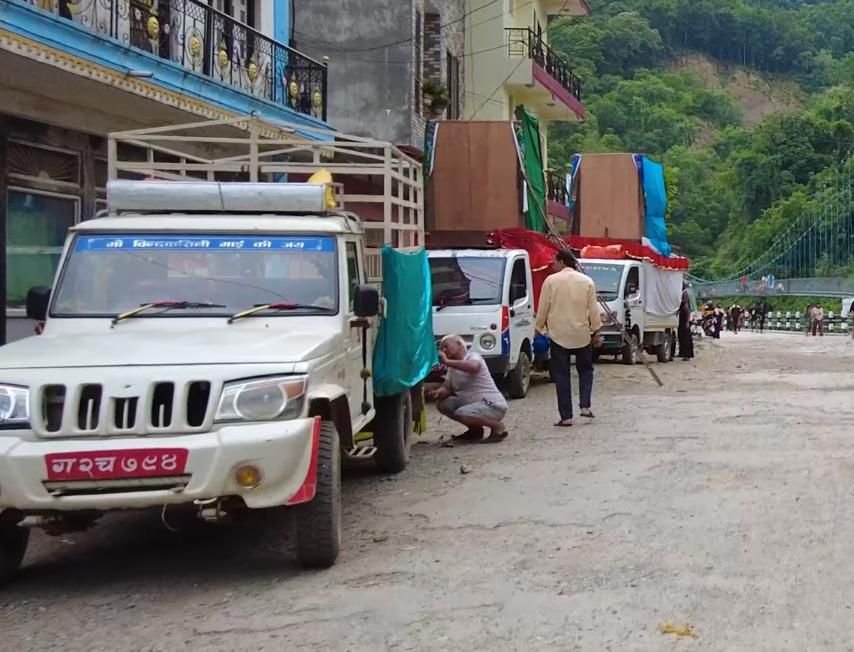transport_vehicle: (0, 106, 447, 586), (427, 210, 555, 417), (567, 233, 698, 373)
